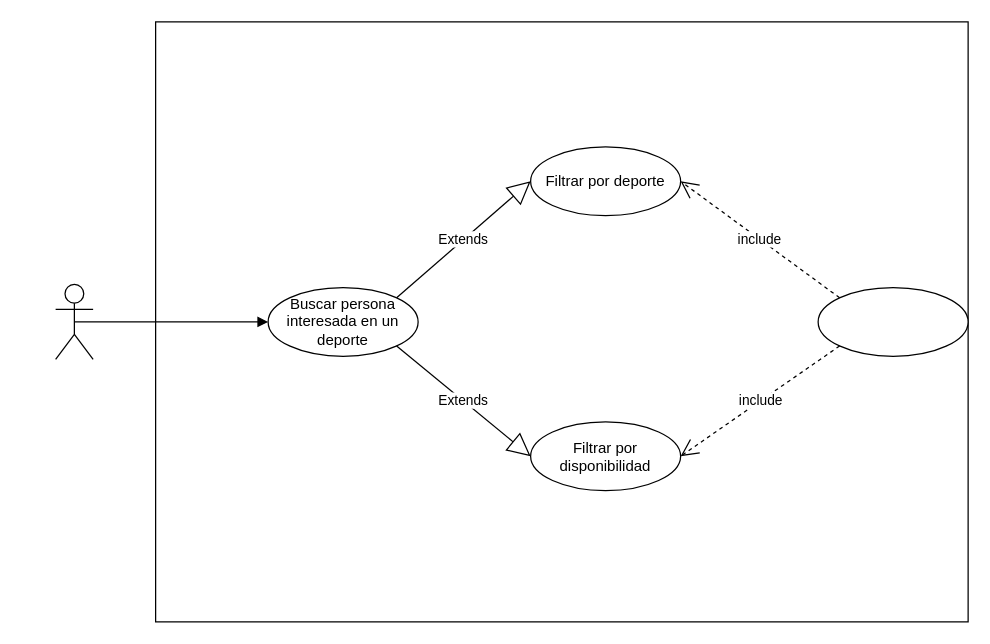
Some shapes in this 990 by 644 pixel diagram are drawn without their labels. Each missing label, with the box of its shape:
Mostrar perfiles: (817, 286, 968, 356)
Usuario alumno: (54, 283, 93, 359)
